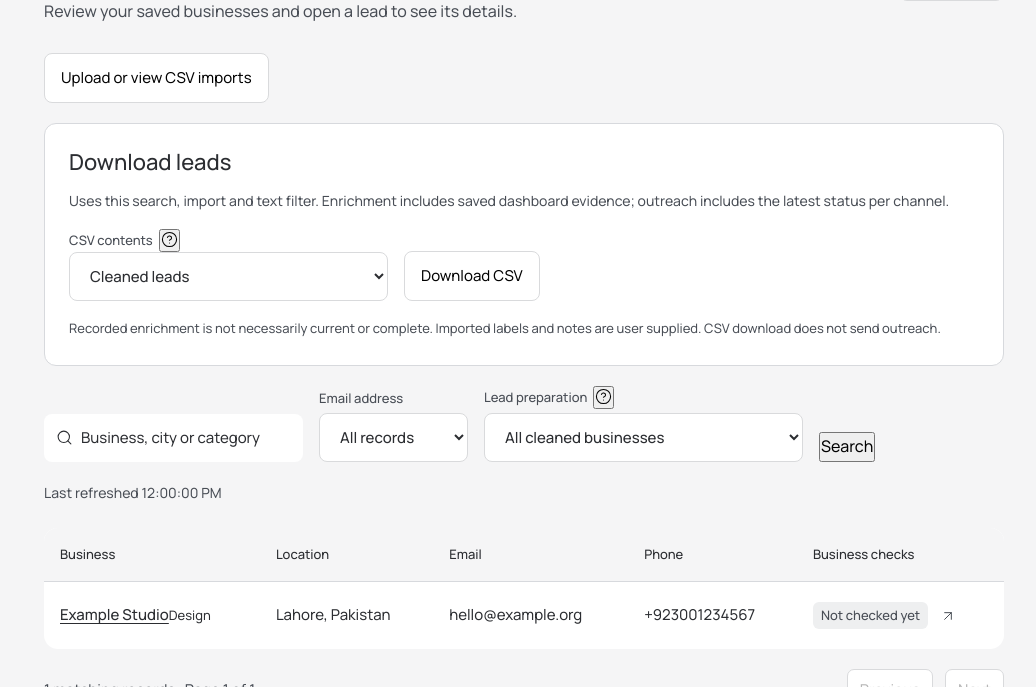
Test: clicking a contact cell opens the lead; its name remains a real link
Click the cell "hello@example.org": coordinates (531, 615) [433,582,628,649]
(page scrolled)
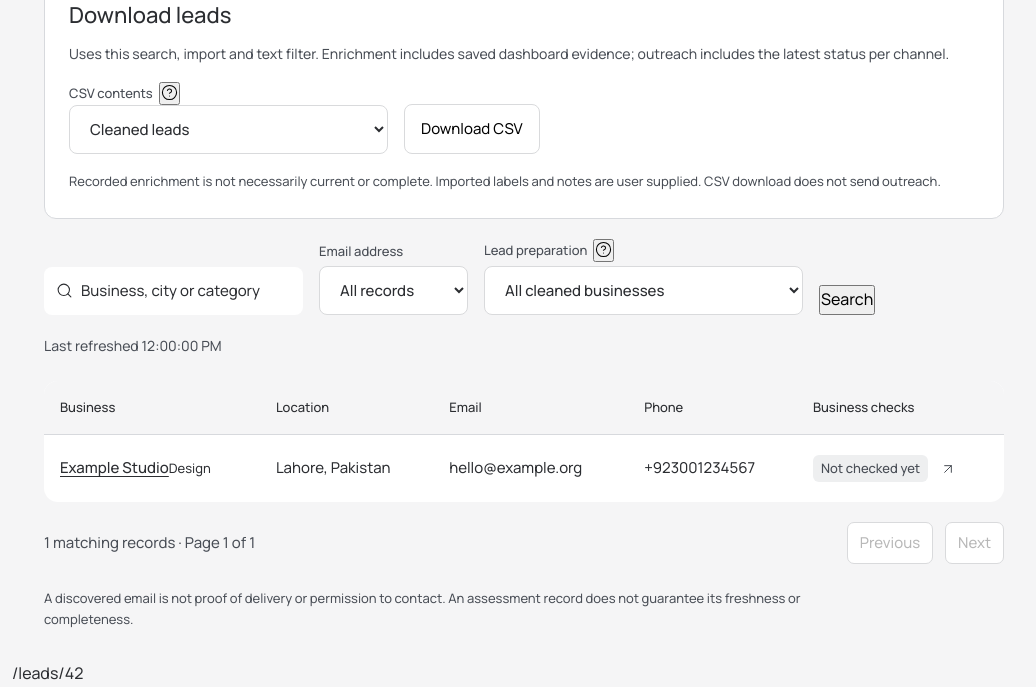
Check: the text "/leads/42" is shown, box [12,662,83,684]
